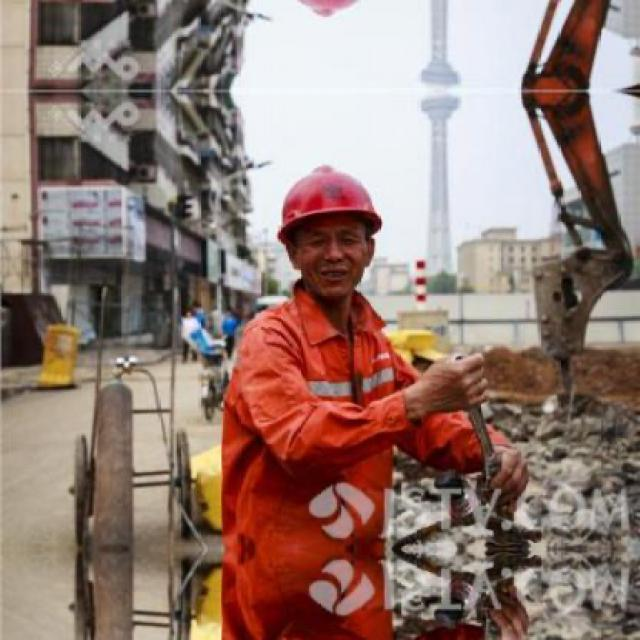helmet: (266, 157, 396, 301)
